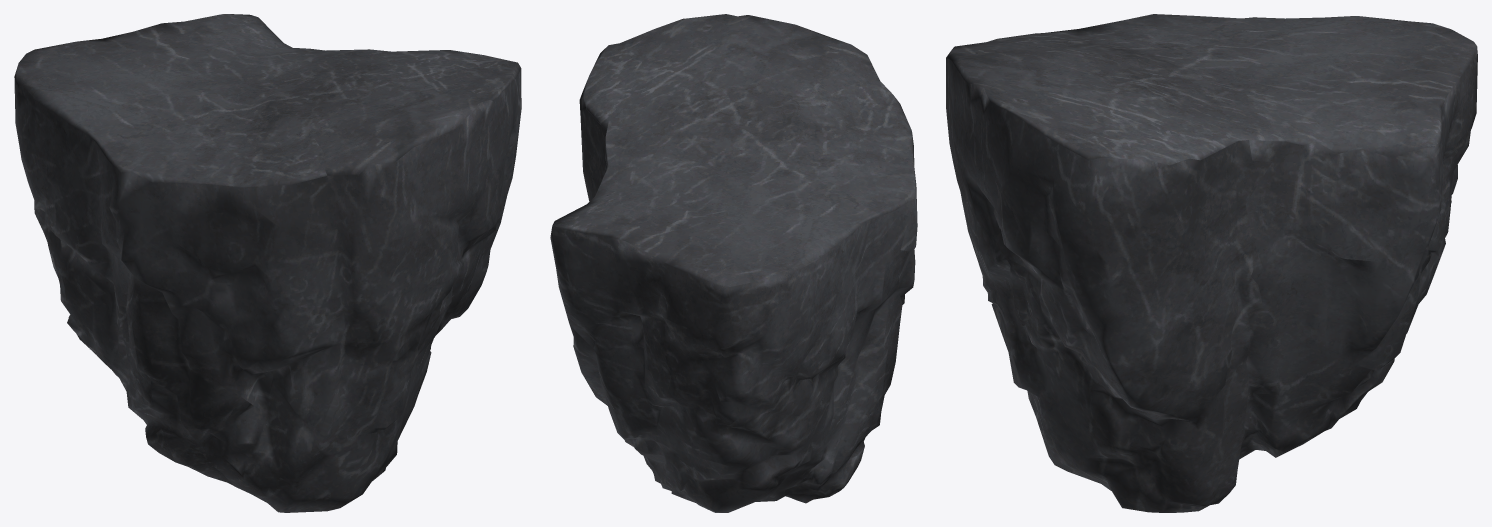
Rendered from Cliff_Ledge_04.fbx.
3 renders of one model, left to right at view 1: azimuth 30°, elevation 25°; view 2: azimuth 150°, elevation 25°; view 3: azimuth 270°, elevation 25°, orthographic. The views are drawn at different scales.
Visible parts, largest first — view 1: SM_Cliff_Ledge_04.mo; view 2: SM_Cliff_Ledge_04.mo; view 3: SM_Cliff_Ledge_04.mo.
Part boxes in pixels (x1,y1,x2,y2): SM_Cliff_Ledge_04.mo: (14, 14, 521, 512); SM_Cliff_Ledge_04.mo: (550, 14, 917, 512); SM_Cliff_Ledge_04.mo: (946, 14, 1477, 512).
Bounding box in the file's own units: 660 × 719 × 779.
Materials: 1 (1 with a texture image).
